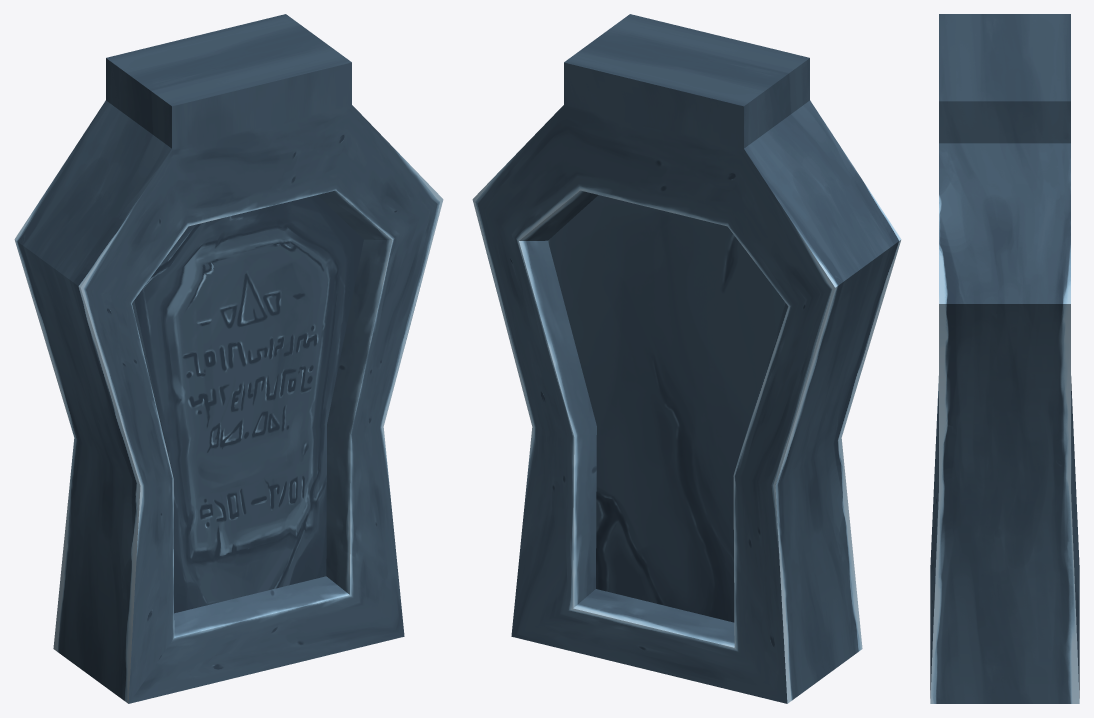
The model's file is SM_PROP_gravestone_v15_01.fbx.
The picture shows the model from 3 angles, left to right: view 1: azimuth 30°, elevation 25°; view 2: azimuth 150°, elevation 25°; view 3: azimuth 270°, elevation 25°; orthographic projection.
Visible parts, largest first — view 1: SM_PROP_gravestone_v15_01; view 2: SM_PROP_gravestone_v15_01; view 3: SM_PROP_gravestone_v15_01.
Part boxes in pixels (box(x1,y1,x2,y2)): SM_PROP_gravestone_v15_01: box(14, 14, 443, 703); SM_PROP_gravestone_v15_01: box(472, 14, 901, 703); SM_PROP_gravestone_v15_01: box(930, 14, 1079, 703).
Bounding box in the file's own units: 93.95 × 144 × 33.71.
